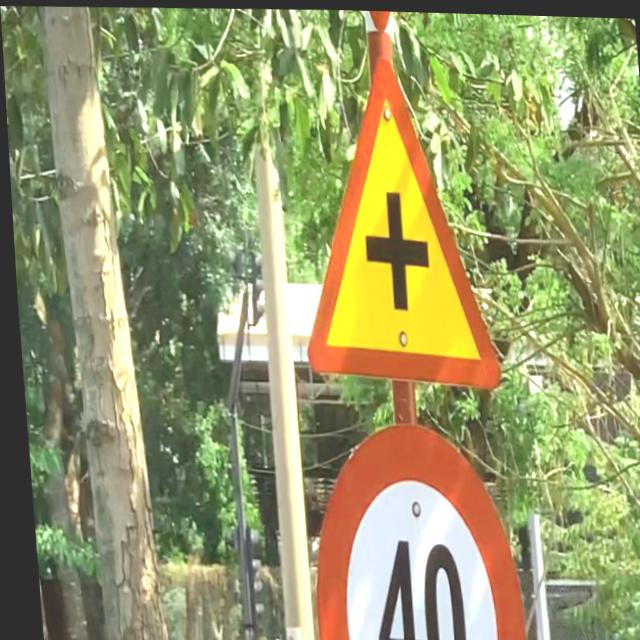Toc do toi da cho phep: (295, 412, 518, 640)
